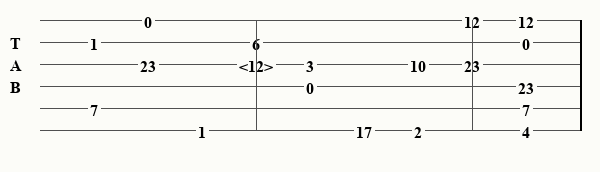0: (144, 13, 156, 28), (306, 79, 318, 94), (522, 35, 534, 50)
1: (90, 35, 102, 50), (198, 123, 210, 138)
10: (410, 57, 430, 72)
12: (464, 13, 484, 28), (518, 13, 538, 28)
17: (356, 123, 376, 138)
2: (414, 123, 426, 138)
23: (140, 57, 160, 72), (464, 57, 484, 72), (518, 79, 538, 94)
3: (306, 57, 318, 72)
4: (522, 123, 534, 138)
6: (252, 35, 264, 50)
7: (90, 101, 102, 116), (522, 101, 534, 116)
harmonic: (239, 57, 277, 72)
